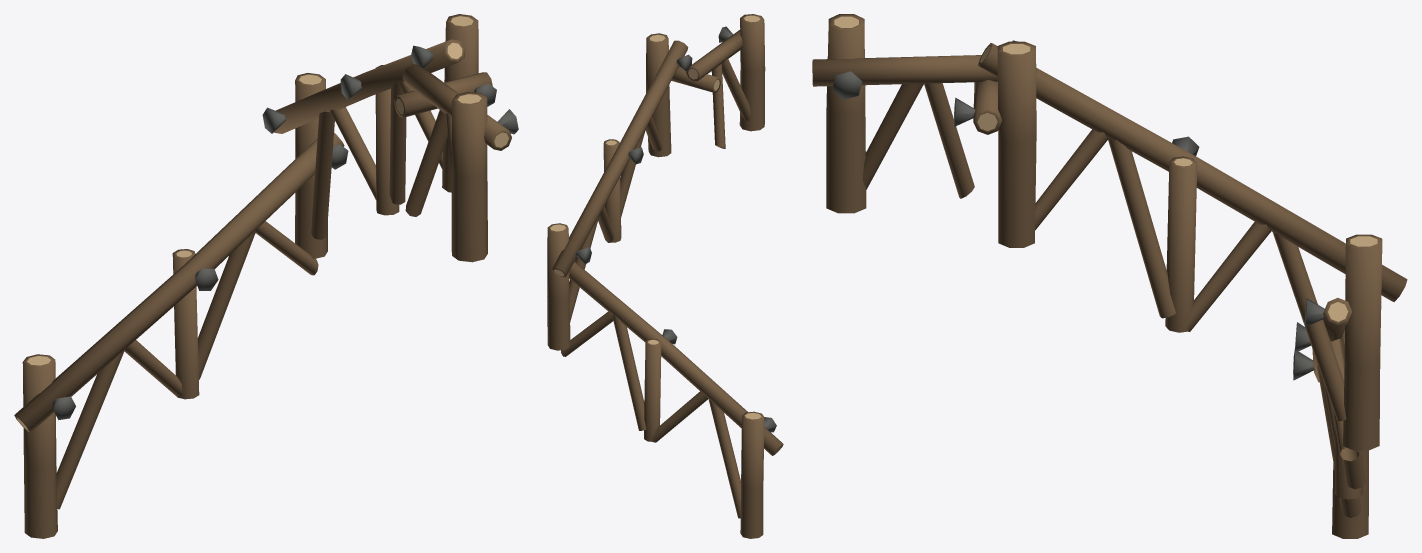
Rendered from rpgpp_ag_stairs_interior_02c_4m_handrail_01.fbx.
3 views of the same model, side by side, from view 1: azimuth 30°, elevation 25°; view 2: azimuth 150°, elevation 25°; view 3: azimuth 270°, elevation 25° (orthographic). The views are drawn at different scales.
Visible parts, largest first — view 1: rpgpp_ag_stairs_interior_02c_4m_handrail_01; view 2: rpgpp_ag_stairs_interior_02c_4m_handrail_01; view 3: rpgpp_ag_stairs_interior_02c_4m_handrail_01.
Part boxes in pixels (x1=…): rpgpp_ag_stairs_interior_02c_4m_handrail_01: x1=14, y1=14, x2=518, y2=538; rpgpp_ag_stairs_interior_02c_4m_handrail_01: x1=547, y1=14, x2=783, y2=538; rpgpp_ag_stairs_interior_02c_4m_handrail_01: x1=812, y1=14, x2=1407, y2=538.
Bounding box in the file's own units: 3.35 × 5.32 × 4.47.
